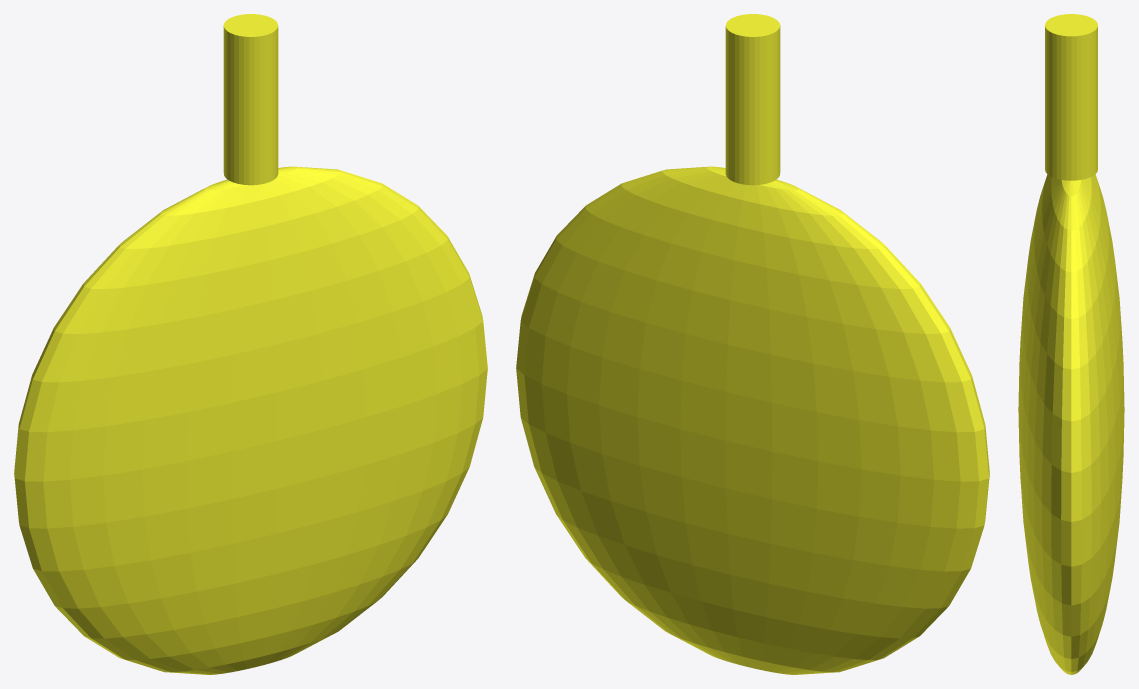
File: banana.obj
The picture shows the model from 3 angles, left to right: view 1: azimuth 30°, elevation 25°; view 2: azimuth 150°, elevation 25°; view 3: azimuth 270°, elevation 25°; orthographic projection. The views are drawn at different scales.
Visible parts, largest first — view 1: Banana_Body, Stem; view 2: Banana_Body, Stem; view 3: Banana_Body, Stem.
Part boxes in pixels (left/top/right/bottom): Banana_Body: left=14, top=166, right=487, bottom=674; Stem: left=223, top=14, right=278, bottom=185; Banana_Body: left=516, top=166, right=989, bottom=674; Stem: left=725, top=14, right=780, bottom=185; Banana_Body: left=1018, top=174, right=1124, bottom=674; Stem: left=1045, top=14, right=1097, bottom=180.
Size of the model in its own units: 1 by 1.3 by 0.2.
